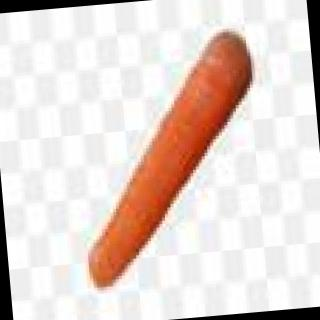Wortel: (42, 20, 290, 295)
